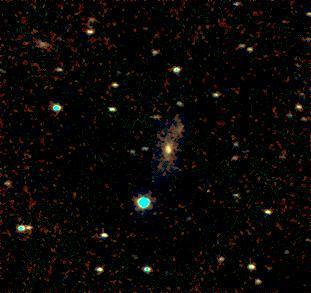star: (194, 175, 224, 205)
